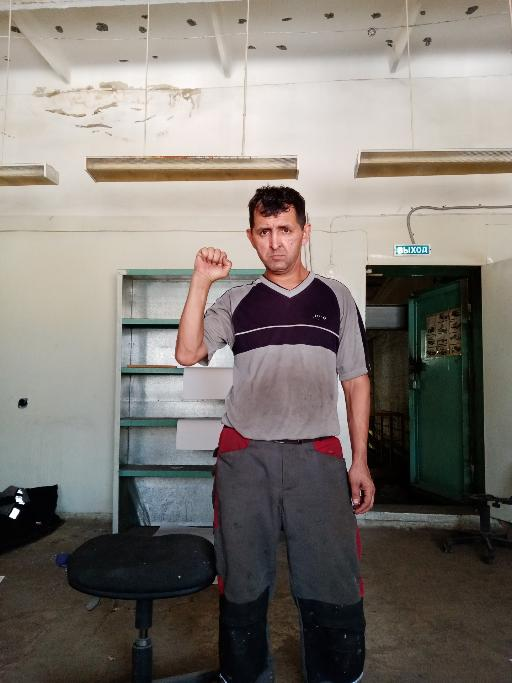fist: (192, 244, 232, 284)
no_gesture: (345, 460, 376, 515)
